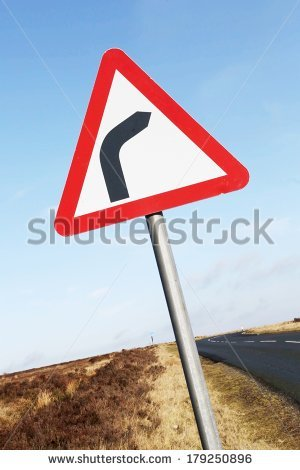Bend_to_right: (48, 46, 251, 239)
